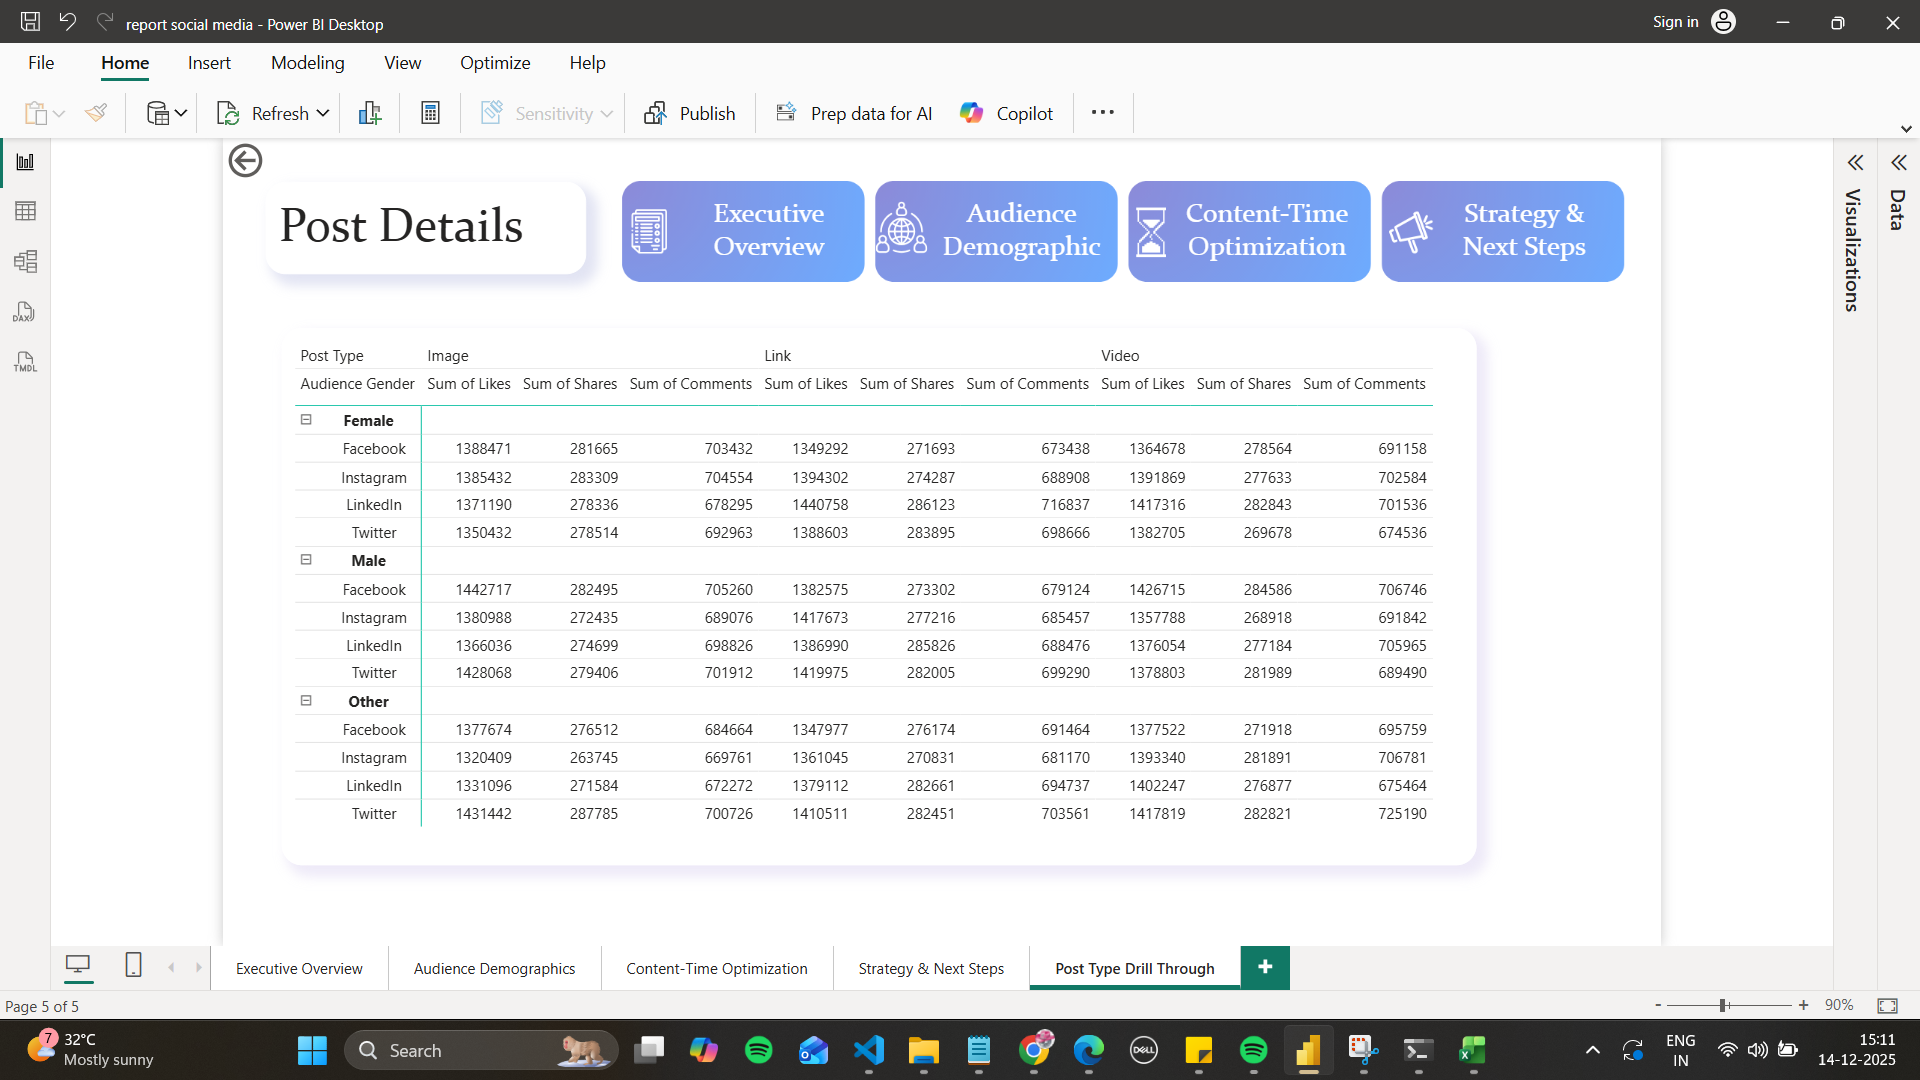

The page's visual inventory and layout, read from the dashboard file:
{"tool":"powerbi","page":{"name":"Post Type Drill Through","canvas":[1280,720],"ordinal":4},"visuals":[{"type":"pivotTable","fields":{"Rows":["Table1.Audience Gender_y","Table1.Platform"],"Columns":["Table1.Post Type_x"],"Values":["Sum(Table1.Likes_x)","Sum(Table1.Shares_x)","Sum(Table1.Comments_x)"]},"box":[51.9,169.4,1063.7,478.8],"z":0},{"type":"textbox","box":[37.4,38.6,285.9,82],"z":1000},{"type":"actionButton","box":[0,0,100,40],"z":2000},{"type":"actionButton","box":[403,37.4,166.5,91.7],"z":3000},{"type":"actionButton","box":[623.7,37.4,176.1,91.7],"z":4000},{"type":"actionButton","box":[1071.3,37.4,176.1,91.7],"z":5000},{"type":"actionButton","box":[839.7,37.4,181,91.7],"z":6000}]}

Visuals, with their boxes on the page's 1280x720 design canvas (x1, y1, x2, y2). These are canvas units, not pixel positions in the 1920x1080 screenshot, which may show the page scaled, cropped or inside an application window:
pivotTable - Table1.Audience Gender_y x Table1.Platform: (left=52, top=169, right=1116, bottom=648)
textbox: (left=37, top=39, right=323, bottom=121)
actionButton: (left=0, top=0, right=100, bottom=40)
actionButton: (left=403, top=37, right=570, bottom=129)
actionButton: (left=624, top=37, right=800, bottom=129)
actionButton: (left=1071, top=37, right=1247, bottom=129)
actionButton: (left=840, top=37, right=1021, bottom=129)
